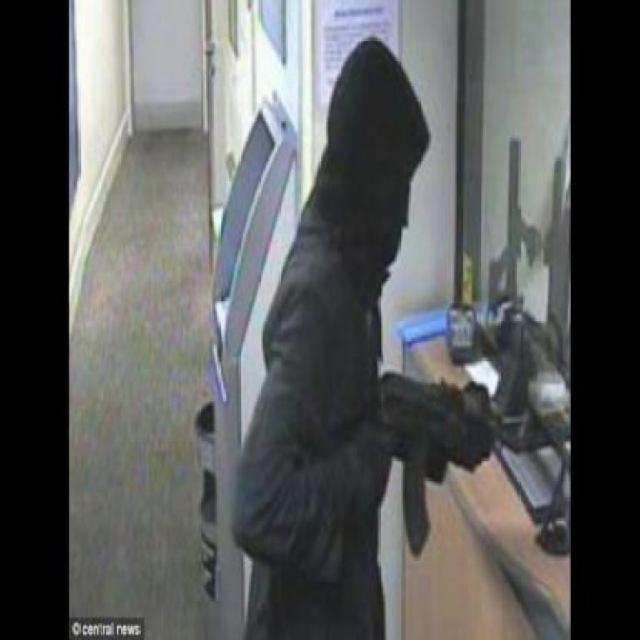weapon: (362, 363, 541, 566)
